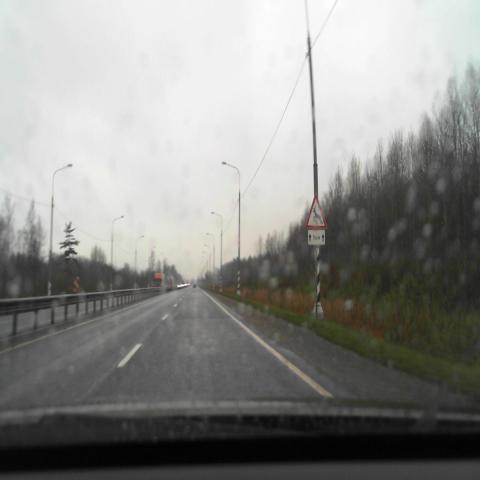1_27: (306, 193, 328, 229)
